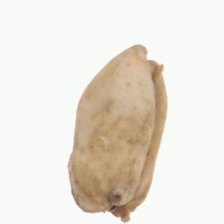L1: (137, 42, 165, 78), (103, 199, 137, 222)
L2: (66, 43, 168, 222)
